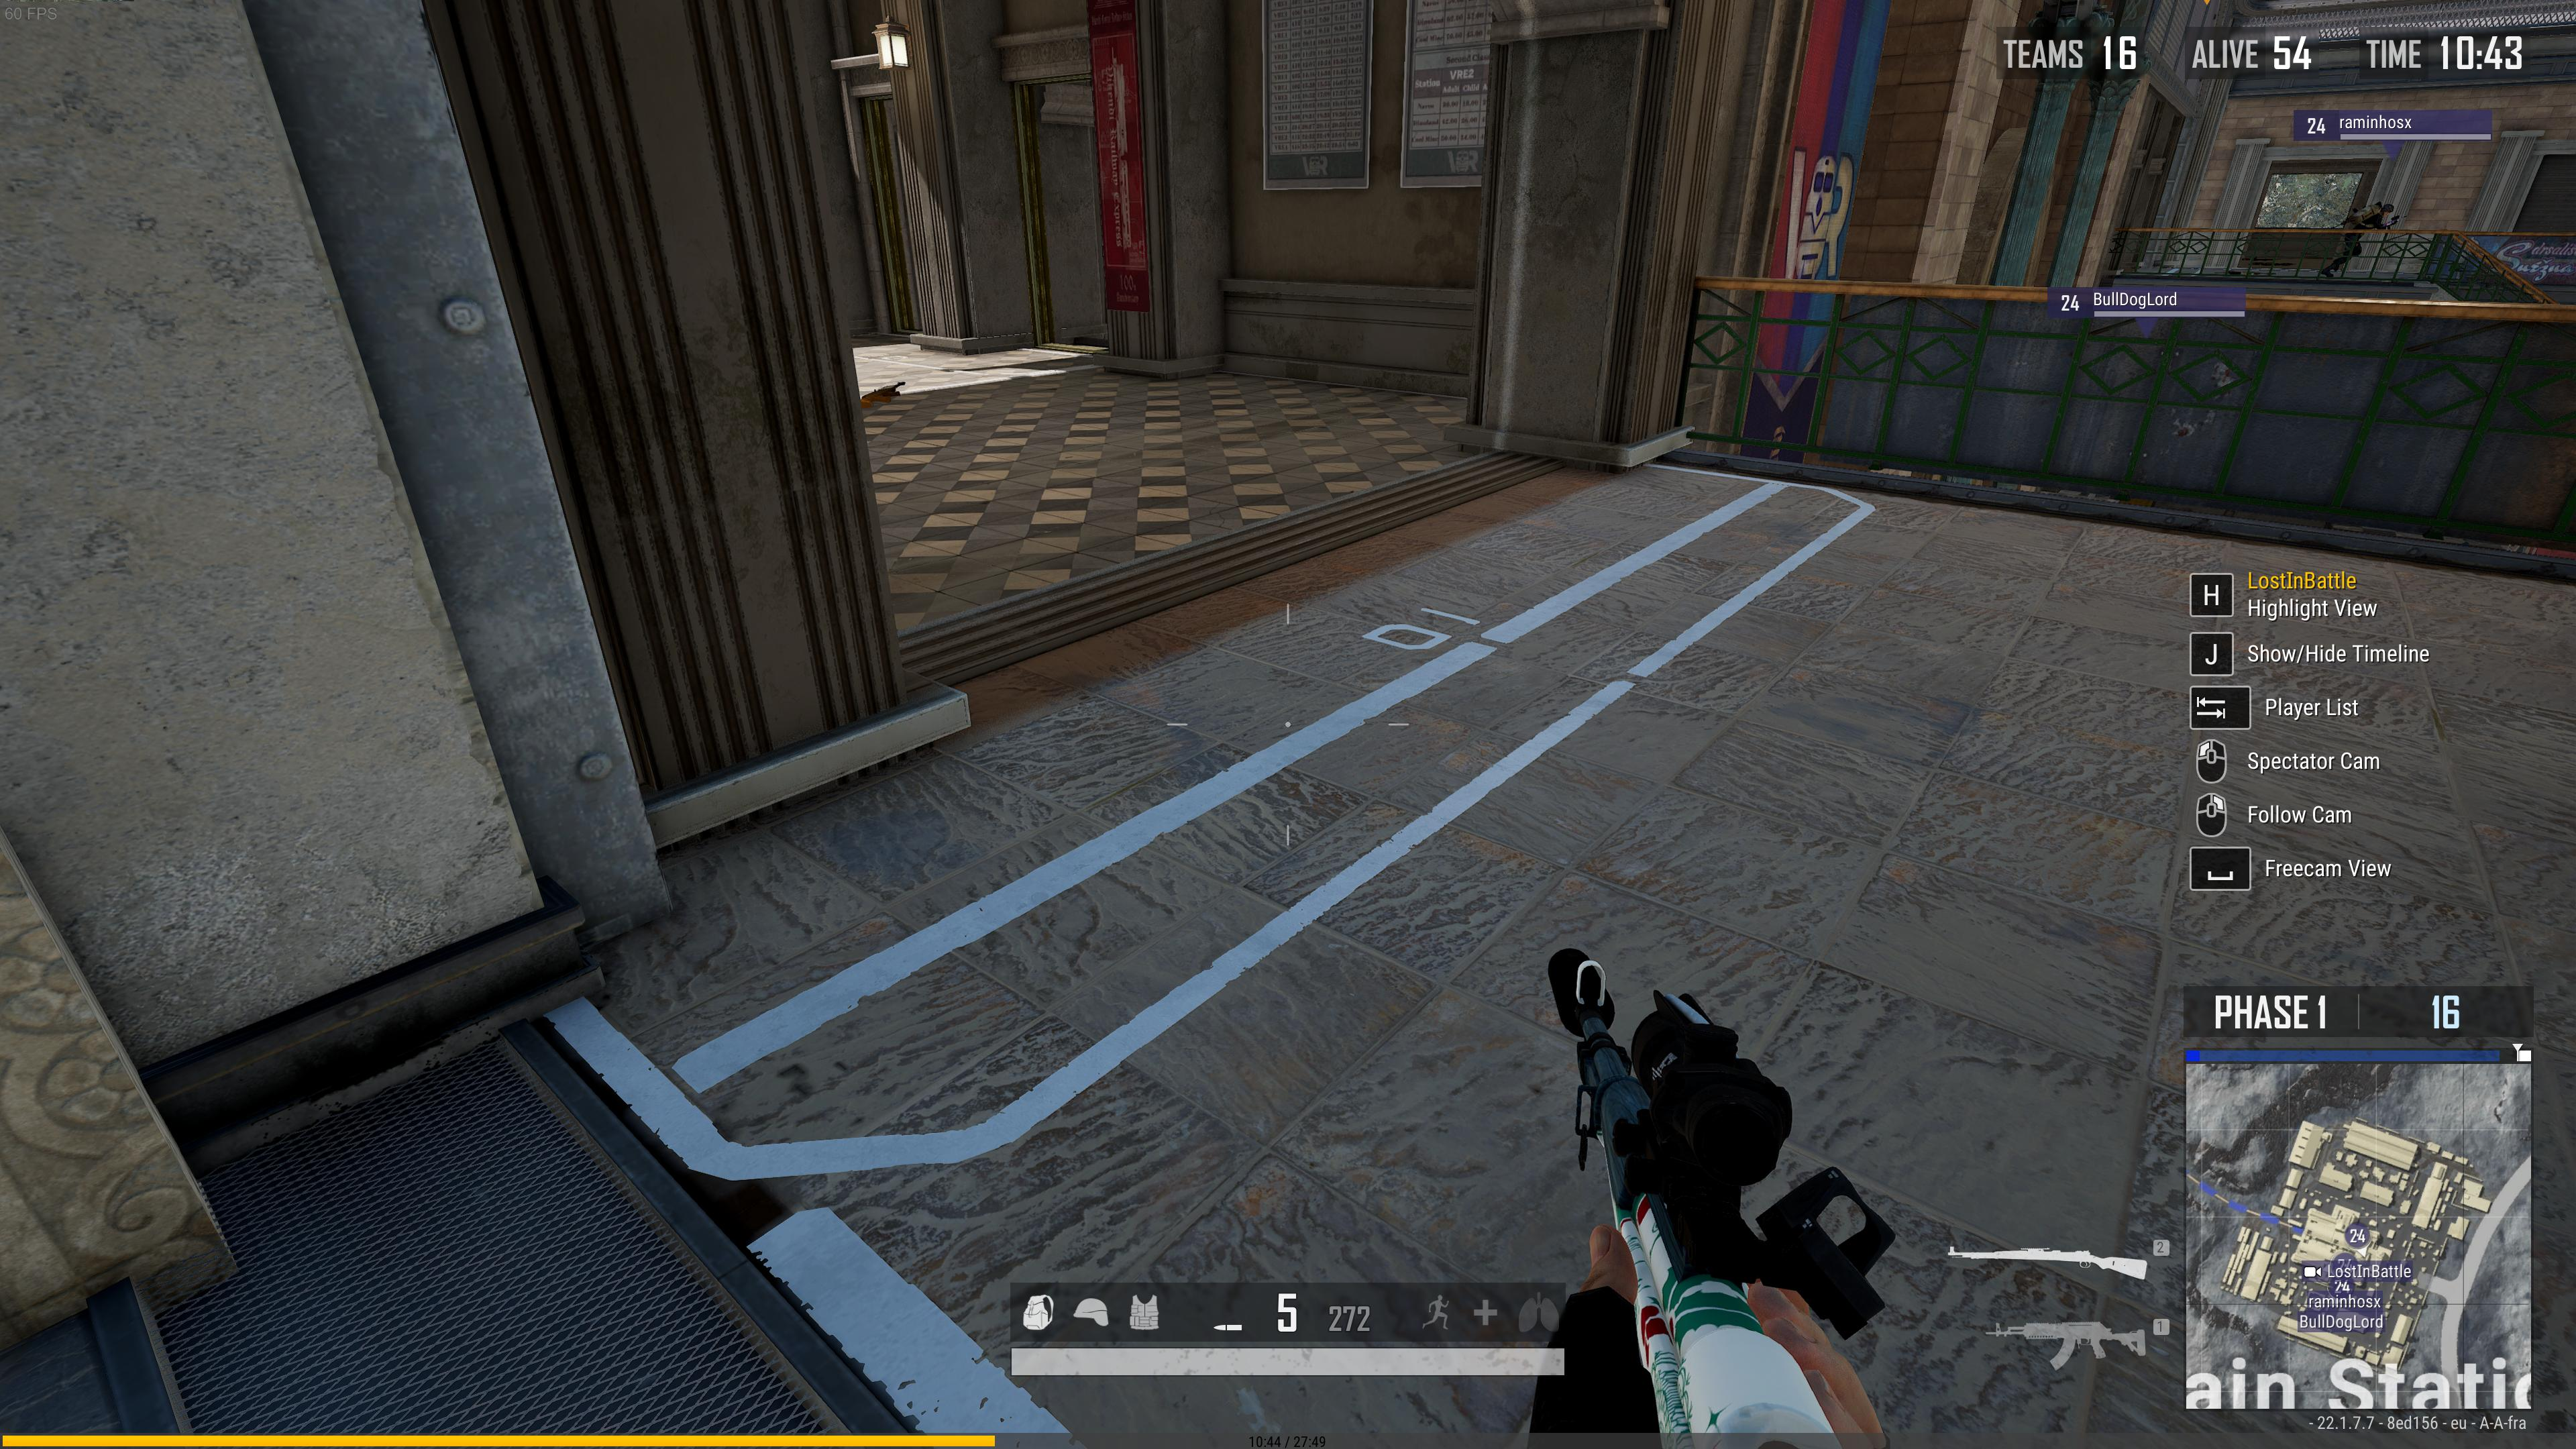enemy: (2319, 200, 2408, 278)
enemy_head: (2380, 202, 2394, 218)
